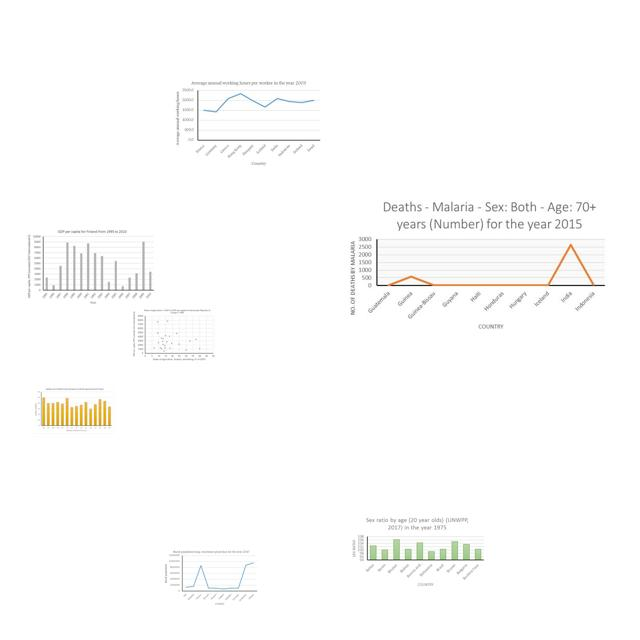Graph: (345, 195, 607, 333), (174, 79, 323, 167), (348, 515, 487, 588), (26, 228, 156, 305), (164, 549, 259, 606), (132, 308, 216, 362), (33, 386, 114, 434)
